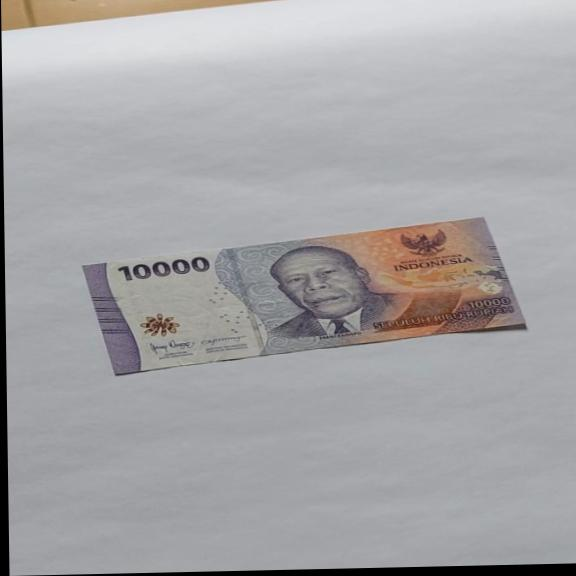Kertas: (81, 215, 528, 378)
